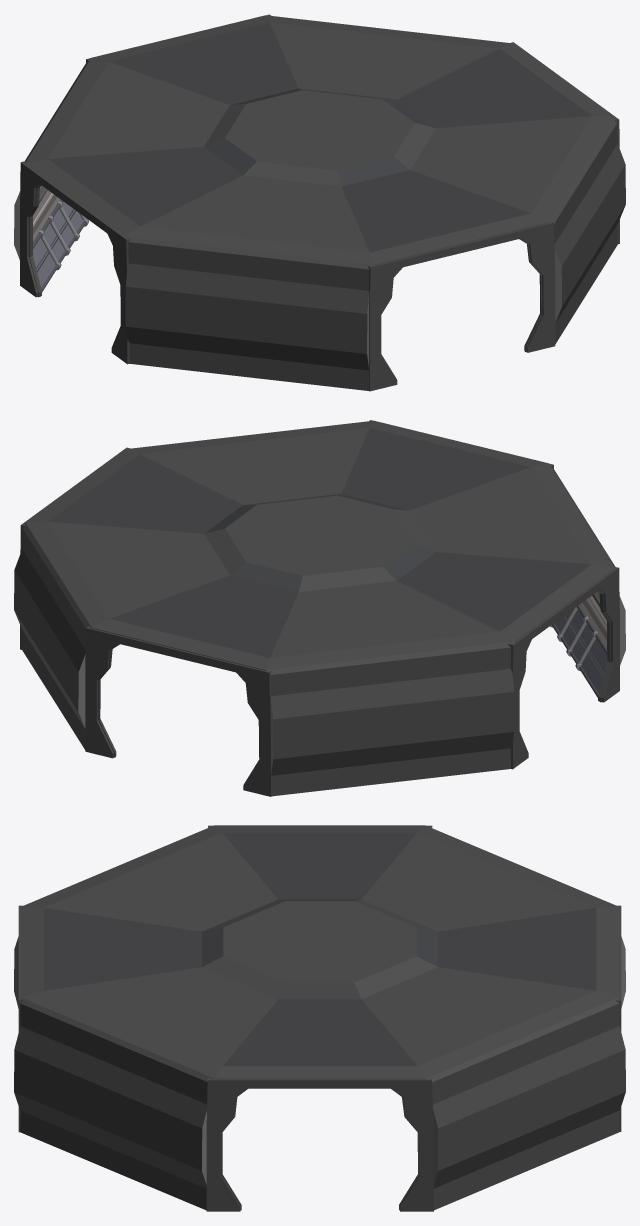
The model's file is Hallway_Big_Module_01.glb.
3 renders of one model, top to bottom at view 1: azimuth 30°, elevation 25°; view 2: azimuth 150°, elevation 25°; view 3: azimuth 270°, elevation 25°, orthographic. The views are drawn at different scales.
Parts seen in each view (by area): view 1: Hallway_Big_Module_01; view 2: Hallway_Big_Module_01; view 3: Hallway_Big_Module_01.
Part boxes in pixels (bbox=[...]): Hallway_Big_Module_01: bbox=[14, 14, 625, 391]; Hallway_Big_Module_01: bbox=[14, 420, 625, 796]; Hallway_Big_Module_01: bbox=[14, 825, 625, 1211].
Size of what is drawn, in the model's own units: 16.24 by 4.19 by 16.24.
Materials: 1 (1 with a texture image).
